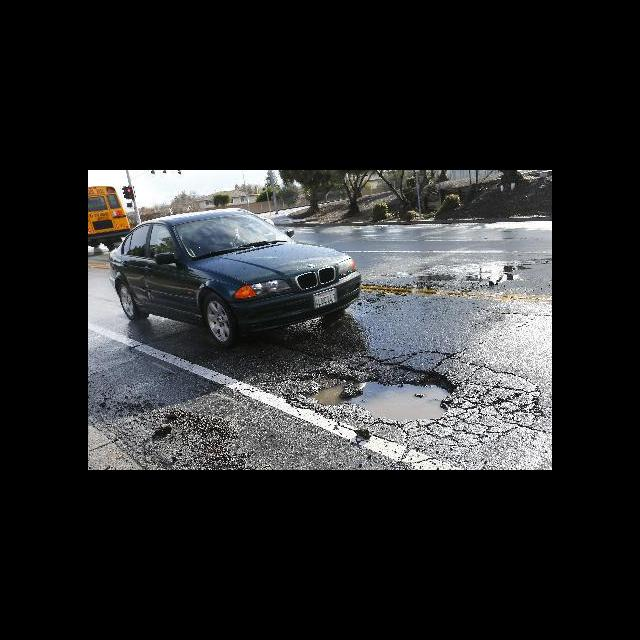lubang_kecil: (301, 358, 450, 421)
retak_kulit_buaya: (456, 349, 535, 438), (406, 398, 501, 463)
